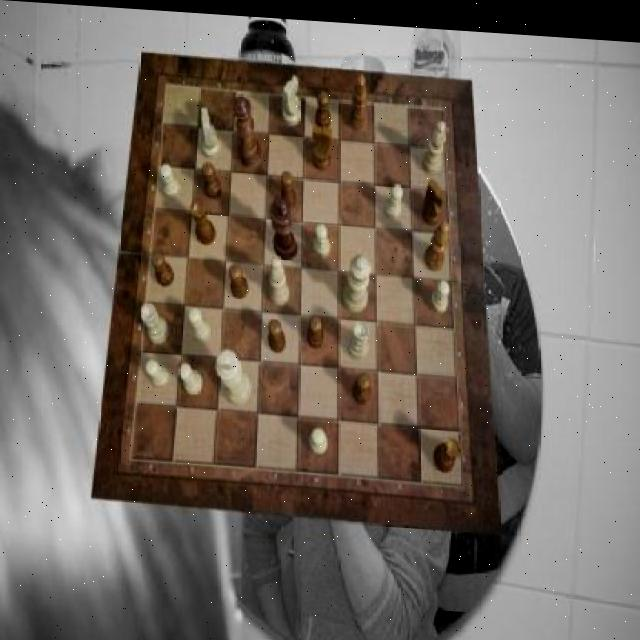bishop: (425, 213, 449, 267), (349, 69, 367, 127)
black-bishop: (271, 191, 298, 257)
black-king: (423, 173, 448, 222), (312, 120, 332, 166)
black-knight: (151, 250, 174, 285), (203, 158, 223, 197), (229, 261, 249, 296), (280, 165, 297, 205), (317, 87, 332, 127), (268, 316, 285, 351), (352, 367, 370, 399), (308, 312, 324, 347)
black-pawn: (234, 91, 263, 166)
black-queen: (192, 198, 217, 243), (434, 431, 461, 468)
black-rook: (423, 114, 446, 169), (271, 253, 291, 303)
white-bishop: (217, 347, 252, 403)
white-king: (202, 104, 222, 156), (282, 72, 299, 124)
white-knight: (178, 360, 202, 394), (188, 305, 210, 341), (160, 161, 181, 198), (146, 358, 171, 387), (431, 272, 450, 307), (385, 177, 402, 216), (314, 218, 331, 254), (310, 424, 328, 451)
white-pawn: (343, 249, 372, 309)
white-queen: (140, 301, 169, 344), (348, 315, 370, 355)
